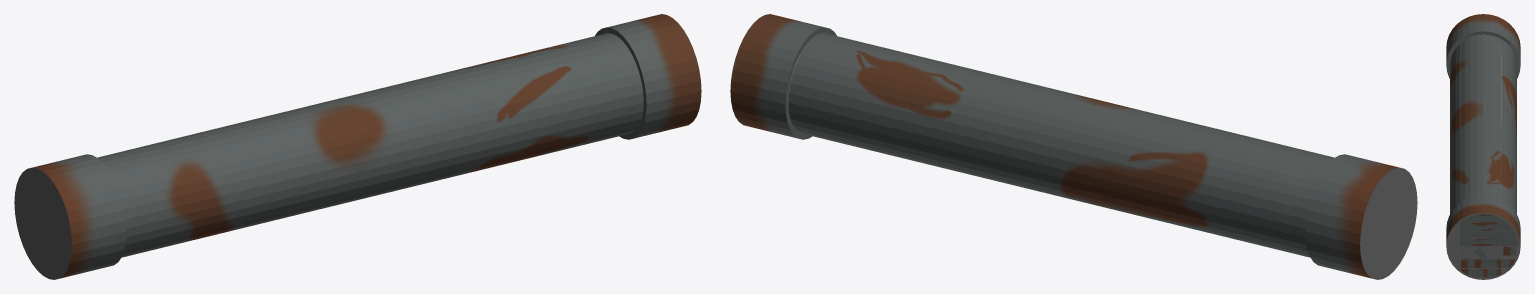
The model's file is basicPipe.dae.
3 renders of one model, left to right at view 1: azimuth 30°, elevation 25°; view 2: azimuth 150°, elevation 25°; view 3: azimuth 270°, elevation 25°, orthographic. The views are drawn at different scales.
Parts seen in each view (by area): view 1: Cylinder.001; view 2: Cylinder.001; view 3: Cylinder.001.
Part boxes in pixels (<box>): Cylinder.001: <box>14,14,701,279</box>; Cylinder.001: <box>730,14,1417,279</box>; Cylinder.001: <box>1446,14,1520,279</box>.
Size of the model in its own units: 3.98 by 0.6296 by 0.6296.
